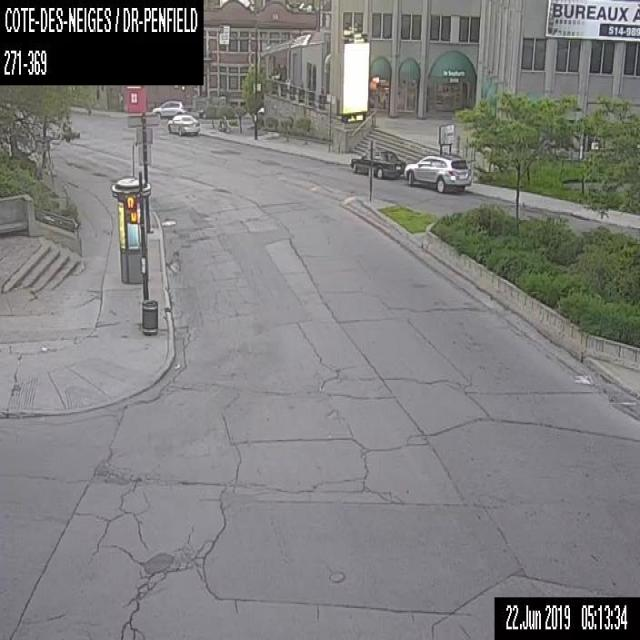vehicle: (404, 154, 472, 192), (348, 146, 406, 178), (167, 113, 199, 136), (151, 97, 183, 118)
